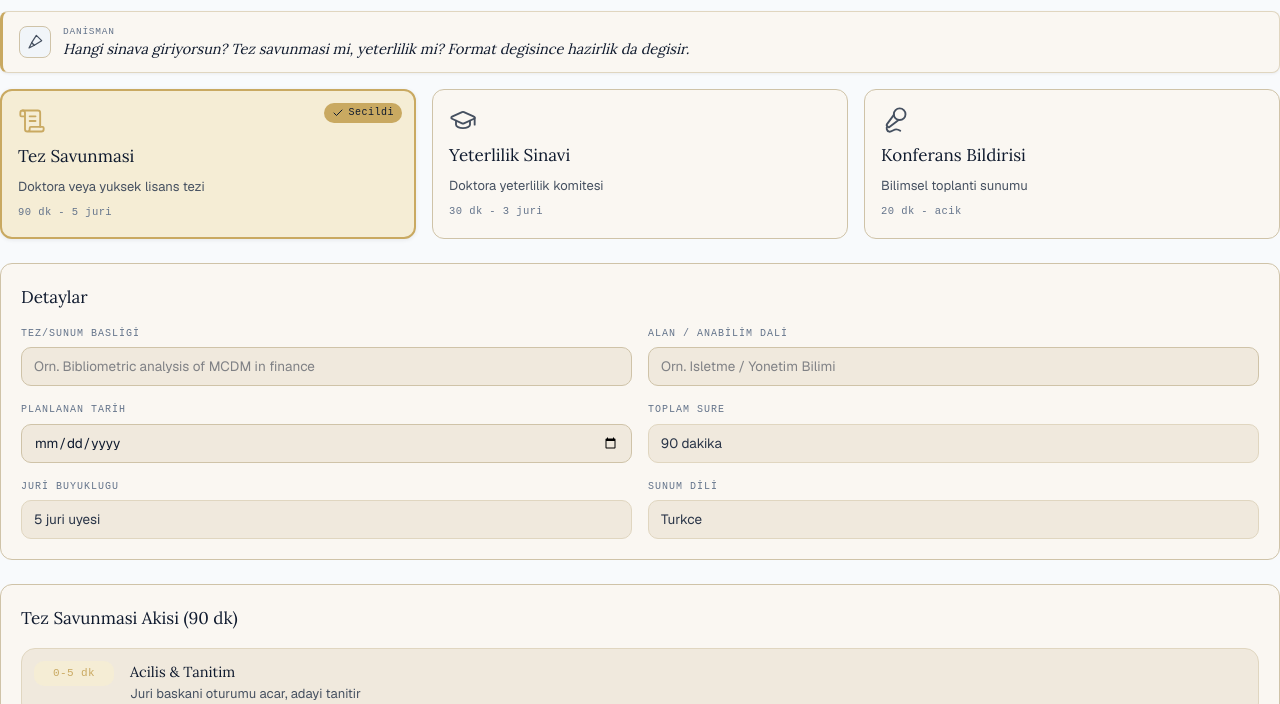
DefenseFormatPage — endpoint binding › session sonrasi Oneri Al cagrisi suggest-jury GET atar
In the field with placeholder "Orn. Bibliometric analysis of MCDM in finance": (326, 367) [21,348,632,386], type "Tez X"
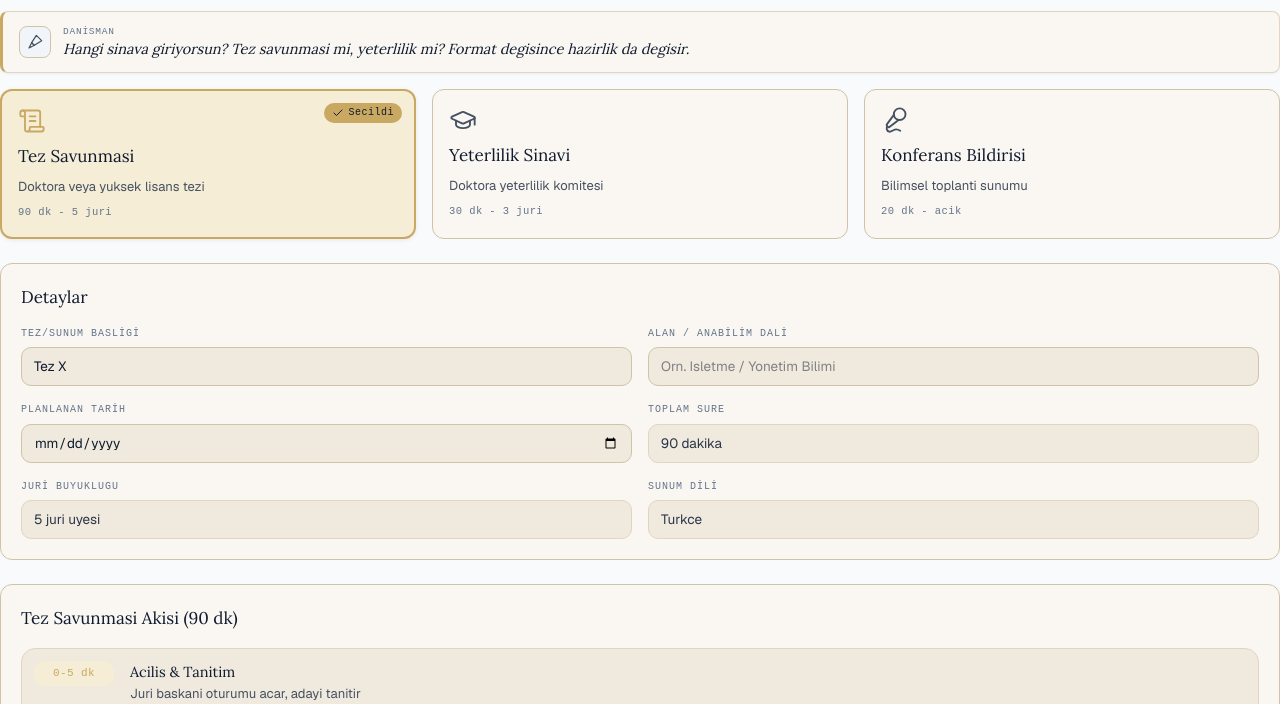
In the field with placeholder "Orn. Isletme / Yonetim Bilimi": (954, 367) [648,348,1259,386], type "Yöneylem"
(page scrolled)
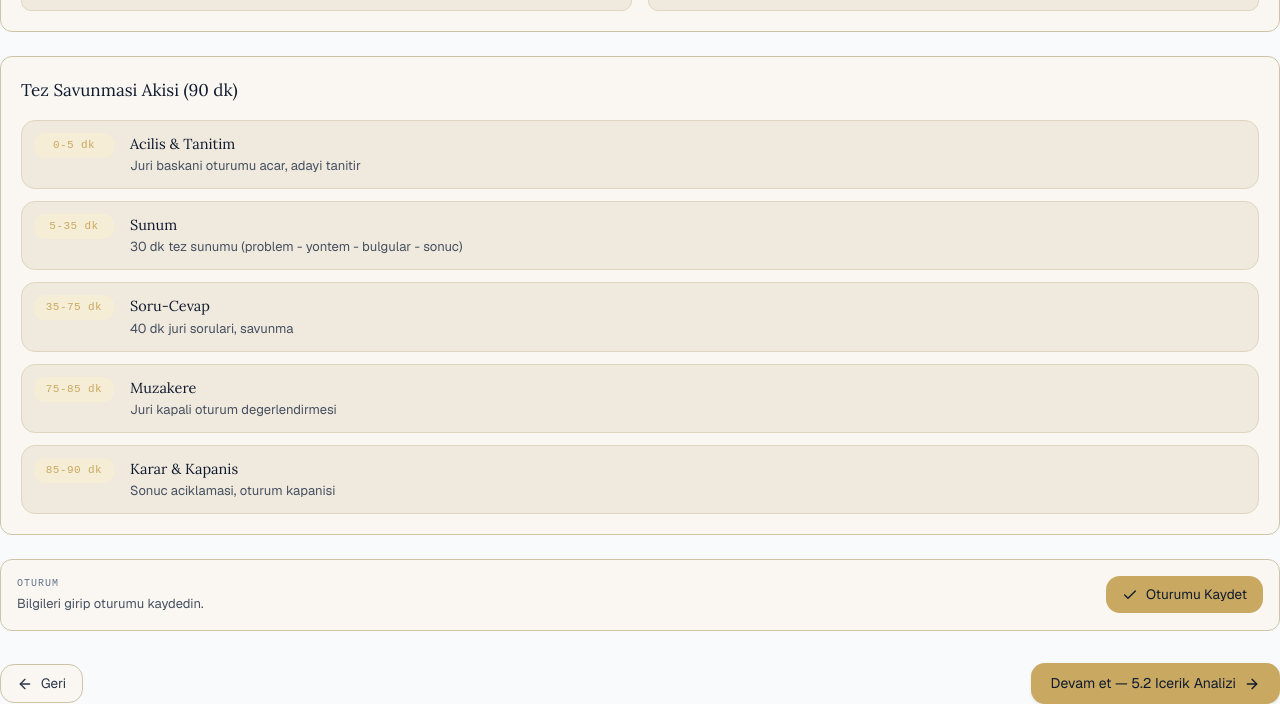
Click the button "Oturumu Kaydet": (1185, 595) [1106,576,1263,613]
(page scrolled)
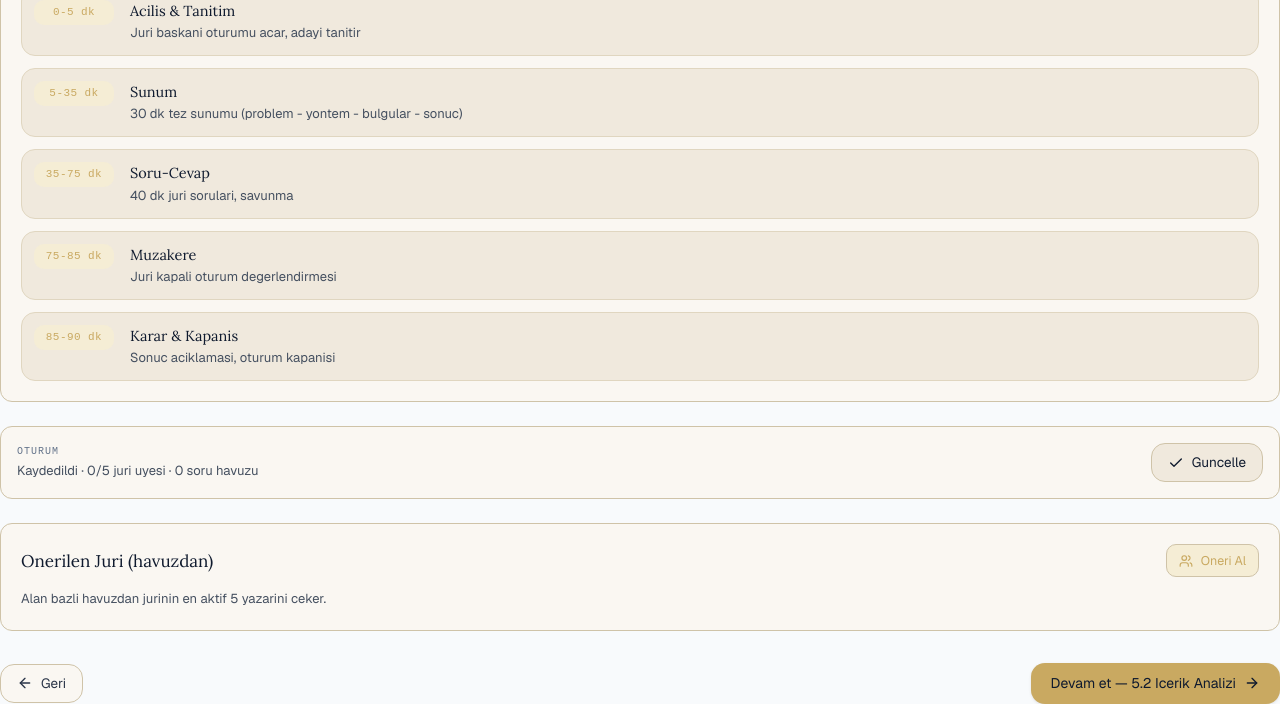
expect the button "Oneri Al" is shown: met
Click the button "Oneri Al": (1212, 561) [1166,544,1259,577]
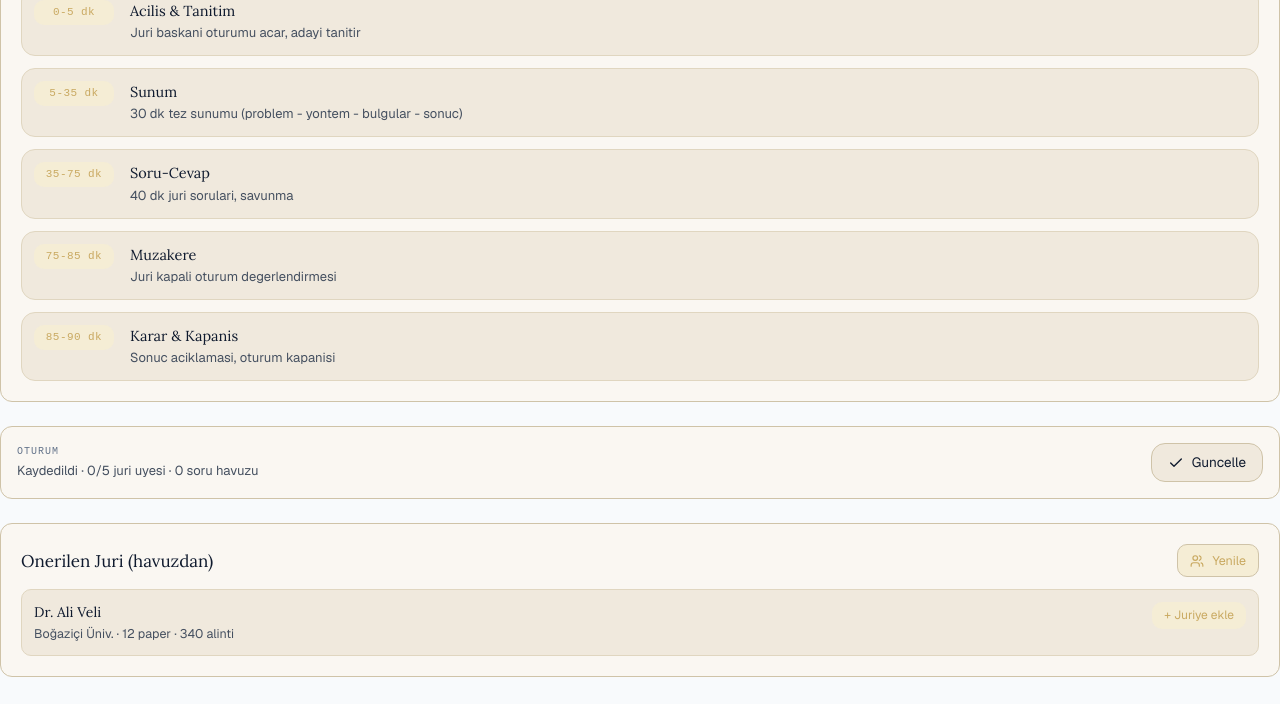
expect the text "Dr. Ali Veli" is shown: met, box [34,603,101,621]
expect the text "Boğaziçi Üniv. · 12 paper · 340 alinti" is shown: met, box [34,625,234,642]
